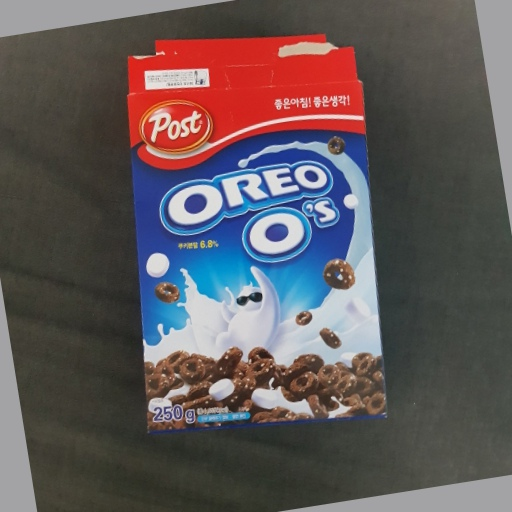Paper_0: (116, 31, 397, 440)
